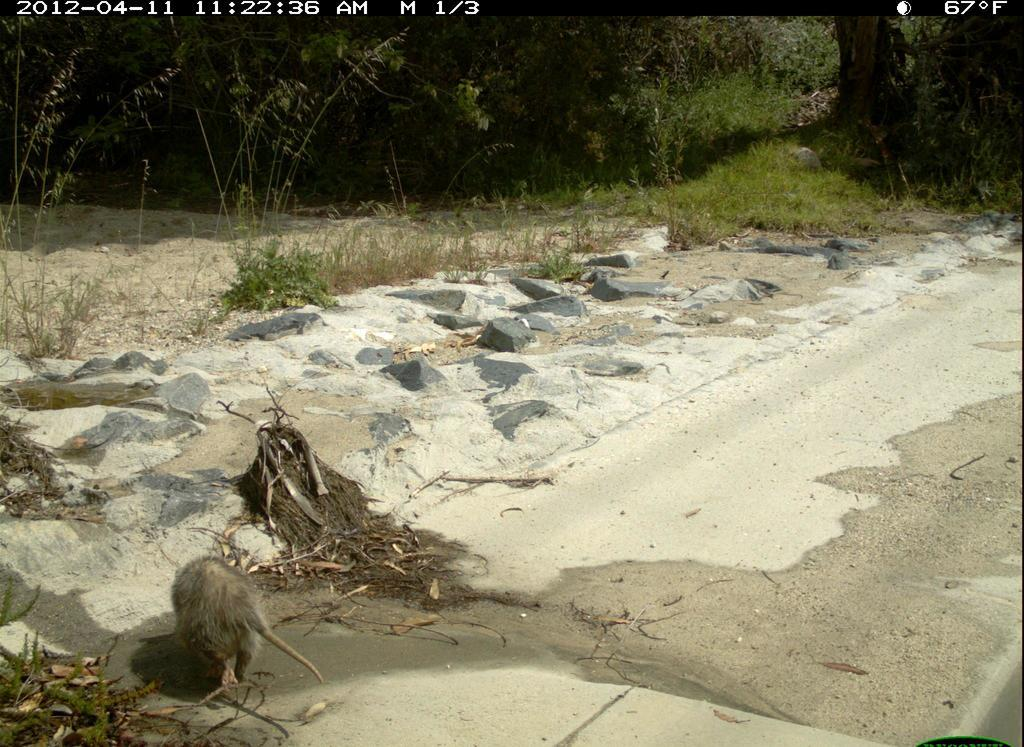opossum: (159, 550, 333, 707)
